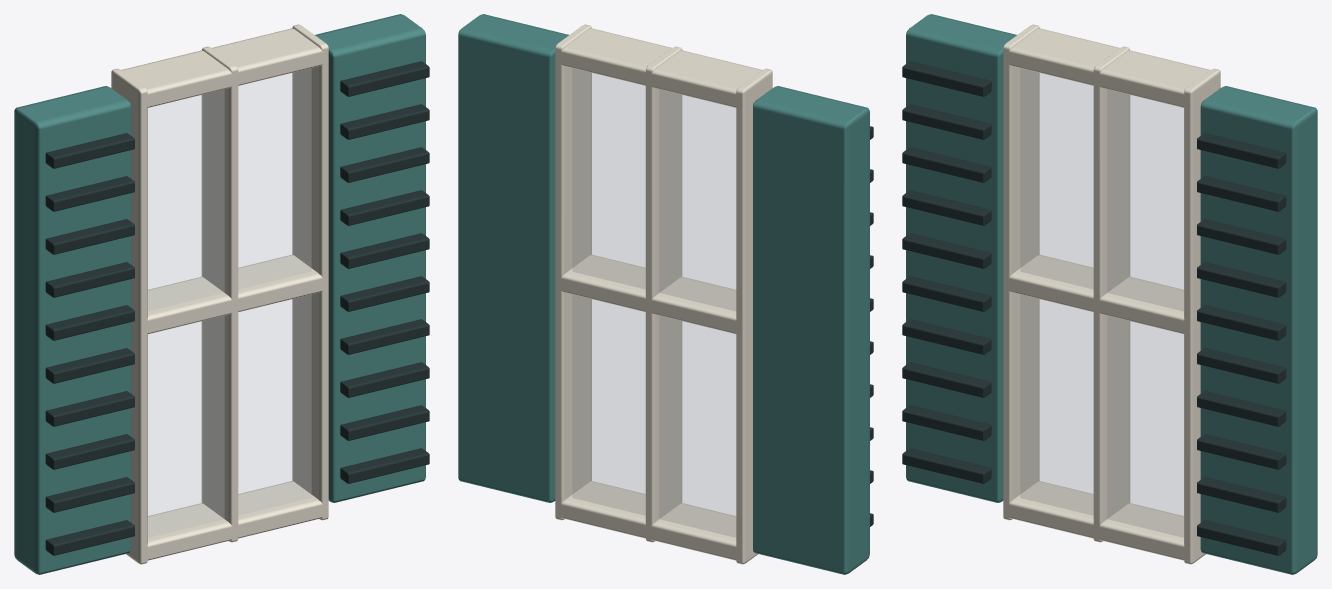
Rendered from wp-fenetre-a-volets.glb.
The picture shows the model from 3 angles, left to right: view 1: azimuth 30°, elevation 25°; view 2: azimuth 150°, elevation 25°; view 3: azimuth 330°, elevation 25°; orthographic projection.
Parts seen in each view (by area): view 1: wp-fenetre-a-volets; view 2: wp-fenetre-a-volets; view 3: wp-fenetre-a-volets.
Part boxes in pixels (<box>): wp-fenetre-a-volets: <box>14,14,429,574</box>; wp-fenetre-a-volets: <box>458,14,873,574</box>; wp-fenetre-a-volets: <box>902,14,1317,574</box>.
Size of the model in its own units: 1.2 by 1.4 by 0.2.
